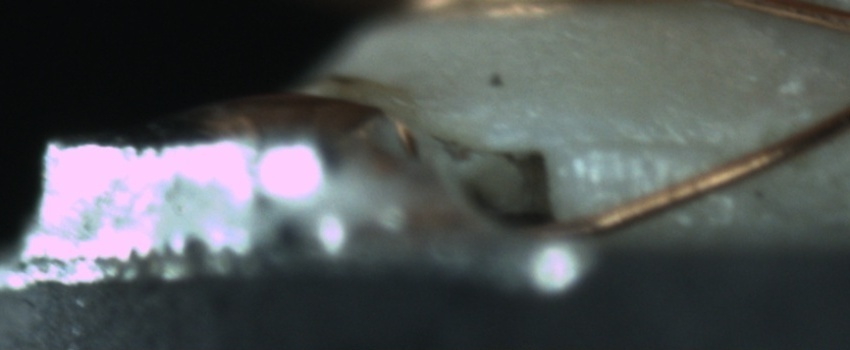DL: (569, 109, 726, 179)
